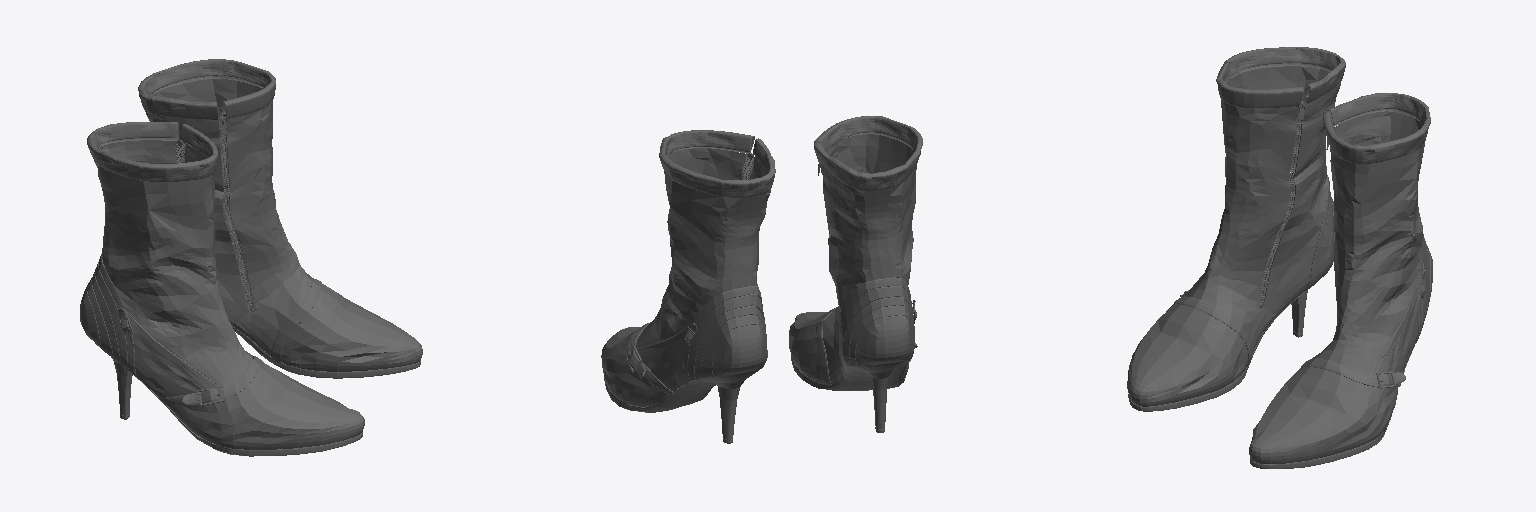
The picture shows the model from 3 angles: view 1: azimuth 30°, elevation 25°; view 2: azimuth 150°, elevation 25°; view 3: azimuth 270°, elevation 25°; orthographic projection.
Parts seen in each view (by area): view 1: arch49_043_obj_04, arch49_043_obj_01, arch49_043_obj_05, arch49_043_obj_00, arch49_043_obj_02; view 2: arch49_043_obj_01, arch49_043_obj_04, arch49_043_obj_00, arch49_043_obj_05; view 3: arch49_043_obj_04, arch49_043_obj_01, arch49_043_obj_05, arch49_043_obj_03, arch49_043_obj_00.
Boxes of the visible parts, x1=… form: arch49_043_obj_04: x1=80, y1=122, x2=364, y2=449; arch49_043_obj_01: x1=138, y1=59, x2=422, y2=371; arch49_043_obj_05: x1=111, y1=357, x2=362, y2=456; arch49_043_obj_00: x1=232, y1=326, x2=420, y2=378; arch49_043_obj_02: x1=218, y1=116, x2=253, y2=312; arch49_043_obj_01: x1=601, y1=130, x2=775, y2=406; arch49_043_obj_04: x1=789, y1=116, x2=922, y2=385; arch49_043_obj_00: x1=604, y1=367, x2=762, y2=443; arch49_043_obj_05: x1=791, y1=356, x2=910, y2=432; arch49_043_obj_04: x1=1127, y1=47, x2=1345, y2=406; arch49_043_obj_01: x1=1249, y1=93, x2=1432, y2=463; arch49_043_obj_05: x1=1128, y1=264, x2=1307, y2=411; arch49_043_obj_03: x1=1180, y1=101, x2=1305, y2=309; arch49_043_obj_00: x1=1250, y1=343, x2=1415, y2=468.
Bounding box in the file's own units: 11.77 × 9.94 × 9.9.